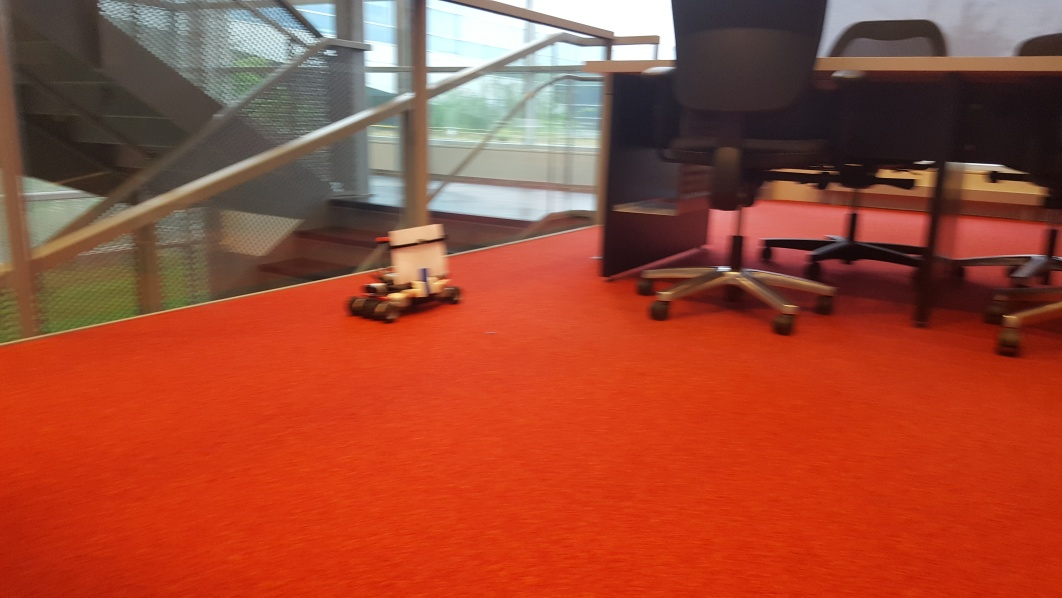car: (347, 222, 461, 325)
